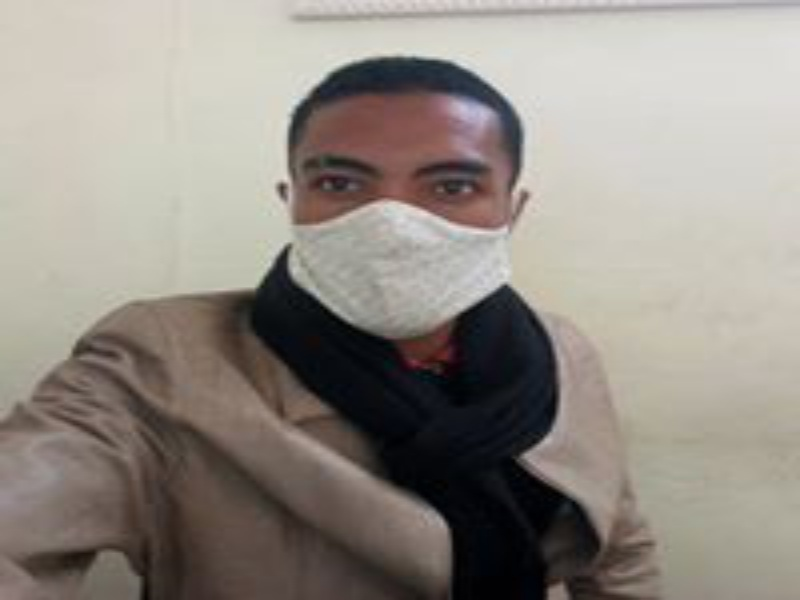ManaoArotava: (260, 58, 546, 349)
